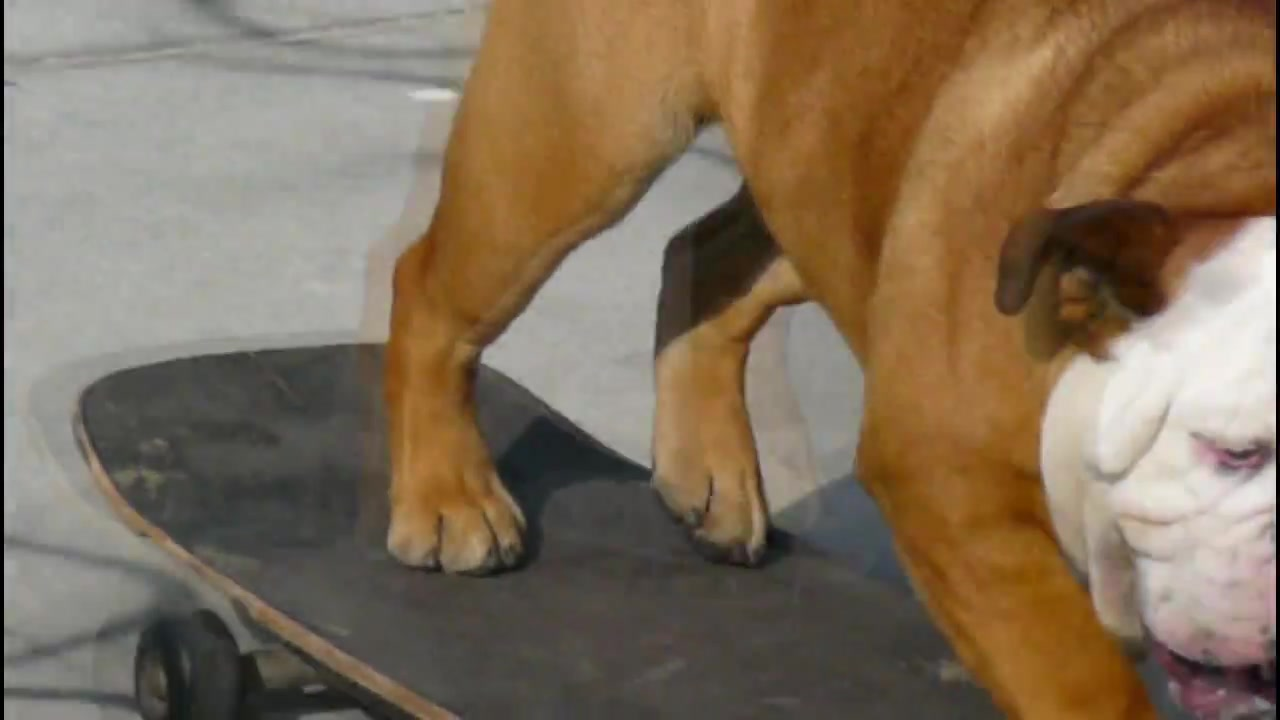dog: (386, 1, 1280, 719)
